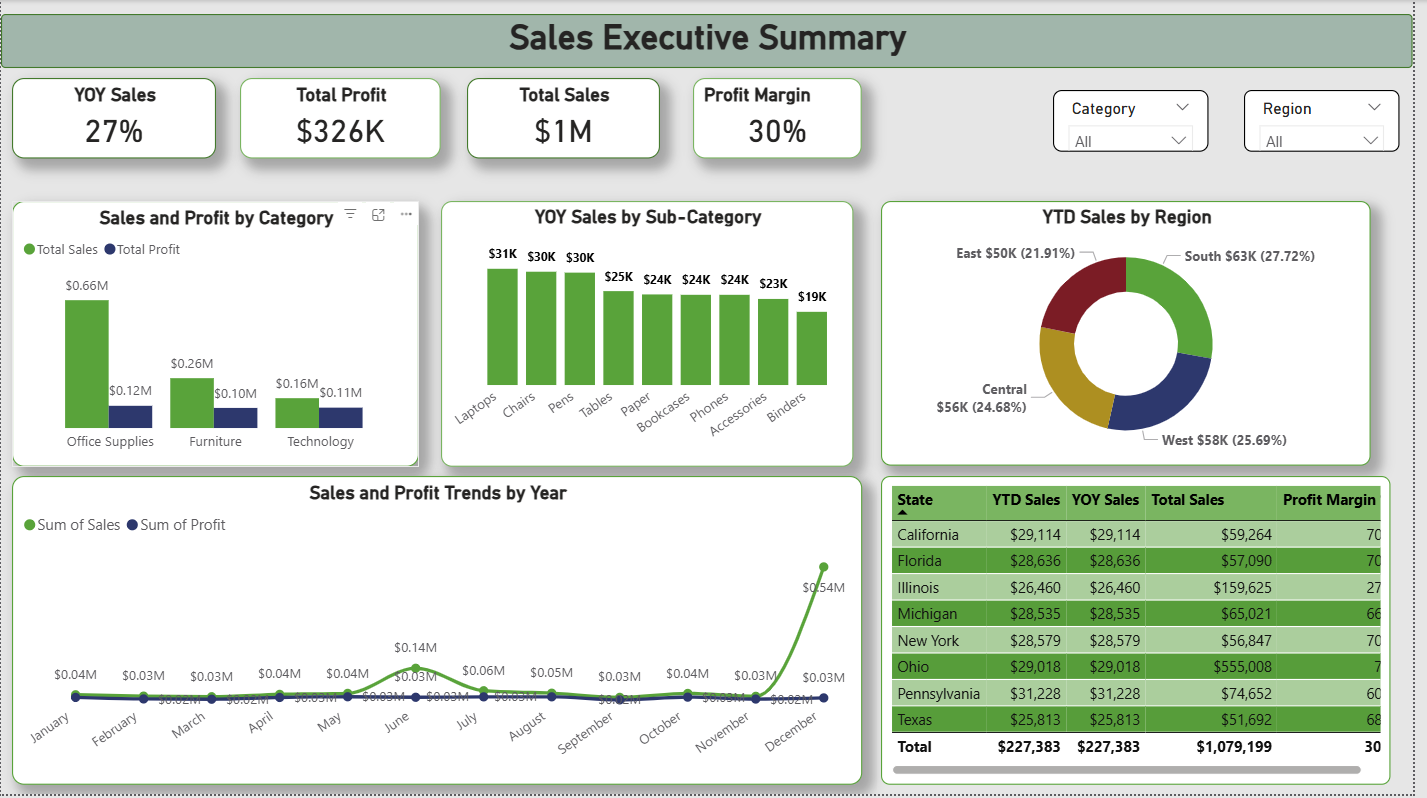

The page's visual inventory and layout, read from the dashboard file:
{"tool":"powerbi","page":{"name":"Executive Summary","canvas":[1280,720],"ordinal":2},"visuals":[{"type":"card","title":"YOY Sales","fields":{"Values":["SalesData.YOY %"]},"box":[10,70.7,185,72.5],"z":0},{"type":"columnChart","fields":{"Category":["SalesData.Sub-Category"],"Y":["SalesData.YOY Sales"]},"box":[399,182.3,373.6,241.2],"z":1000},{"type":"clusteredColumnChart","title":"Sales and Profit by Category","fields":{"Category":["SalesData.Category"],"Y":["SalesData.Total Sales","SalesData.Total Profit"]},"box":[10,182.3,369.1,241.2],"z":2000},{"type":"areaChart","title":"Sales and Profit Trends by Year","fields":{"Category":["Date.Date.Variation.Date Hierarchy.Year","Date.Date.Variation.Date Hierarchy.Quarter","Date.Date.Variation.Date Hierarchy.Month","Date.Date.Variation.Date Hierarchy.Day"],"Y":["Sum(SalesData.Sales)","Sum(SalesData.Profit)"]},"box":[10,431.6,770.8,280.2],"z":3000},{"type":"textbox","title":"Sales Executive Summary","box":[0,12.7,1280.4,49],"z":4000},{"type":"card","title":"Total Profit","fields":{"Values":["SalesData.Total Profit"]},"box":[216.7,70.7,182.3,72.5],"z":5000},{"type":"card","title":"Total Sales","fields":{"Values":["SalesData.Total Sales"]},"box":[422.6,70.7,175,72.5],"z":6000},{"type":"card","title":"Profit Margin","fields":{"Values":["SalesData.Profit Margin %"]},"box":[627.5,70.7,153.2,72.5],"z":7000},{"type":"donutChart","fields":{"Y":["SalesData.YTD Sales"],"Category":["SalesData.Region"]},"box":[798,182.3,444.3,240.3],"z":8000},{"type":"tableEx","fields":{"Values":["SalesData.State","SalesData.YTD Sales","SalesData.YOY Sales","SalesData.Total Sales","SalesData.Profit Margin %","select"]},"box":[798,431.6,461.6,280.2],"z":9000},{"type":"slicer","fields":{"Values":["SalesData.Category"]},"box":[954,81.6,140.6,56.2],"z":10000},{"type":"slicer","fields":{"Values":["SalesData.Region"]},"box":[1127.2,81.6,141.5,56.2],"z":11000}]}

Visuals, with their boxes in screenshot pixels (x1, y1, x2, y2), scaled from the page's 1280x720 canvas onto the 1427x798 screenshot:
"YOY Sales" card: 11, 78, 217, 159
columnChart - SalesData.Sub-Category x SalesData.YOY Sales: 445, 202, 861, 469
"Sales and Profit by Category" clusteredColumnChart: 11, 202, 423, 469
"Sales and Profit Trends by Year" areaChart: 11, 478, 870, 789
"Sales Executive Summary" textbox: 0, 14, 1426, 68
"Total Profit" card: 242, 78, 445, 159
"Total Sales" card: 471, 78, 666, 159
"Profit Margin" card: 700, 78, 870, 159
donutChart - SalesData.YTD Sales x SalesData.Region: 890, 202, 1385, 468
tableEx - SalesData.State x SalesData.YTD Sales: 890, 478, 1404, 789
slicer - SalesData.Category: 1064, 90, 1220, 153
slicer - SalesData.Region: 1257, 90, 1414, 153
